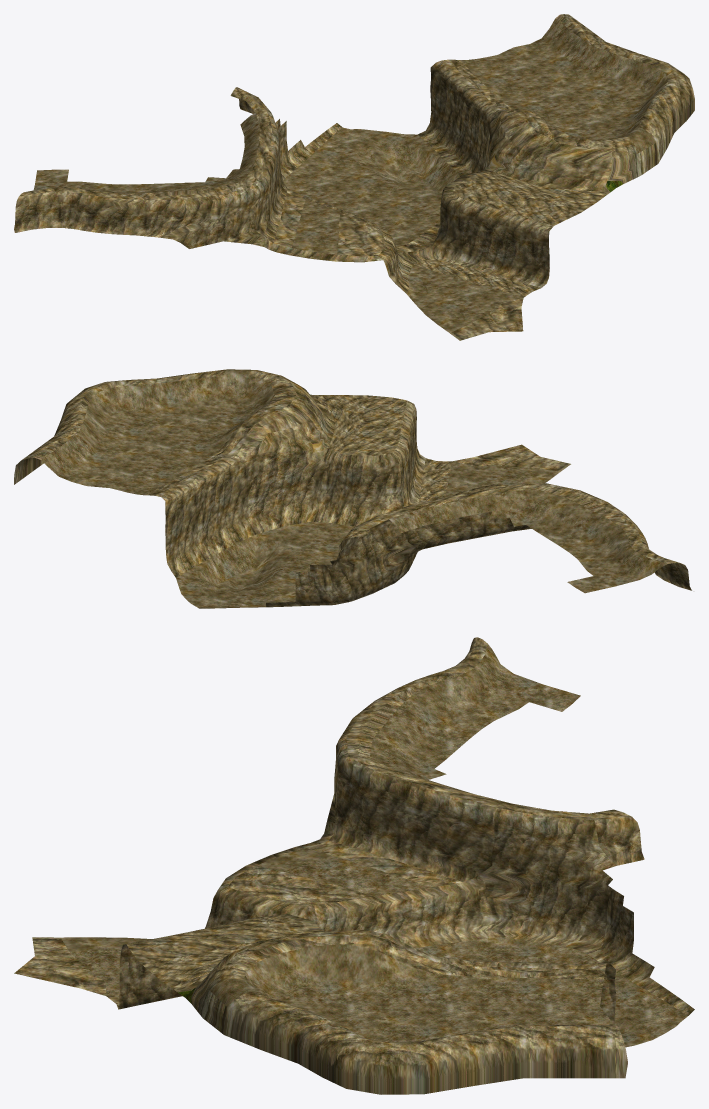
Rendered from RM_PLAYSURFACE_FINAL_OBJECT05.fbx.
3 views of the same model, one above another, from view 1: azimuth 30°, elevation 25°; view 2: azimuth 150°, elevation 25°; view 3: azimuth 270°, elevation 25° (orthographic). The views are drawn at different scales.
Parts seen in each view (by area): view 1: RM_PLAYSURFACE_FINAL_OBJECT05; view 2: RM_PLAYSURFACE_FINAL_OBJECT05; view 3: RM_PLAYSURFACE_FINAL_OBJECT05.
Boxes of the visible parts, box(x1,y1,x2,y2) form: RM_PLAYSURFACE_FINAL_OBJECT05: box(14, 14, 694, 340); RM_PLAYSURFACE_FINAL_OBJECT05: box(14, 369, 691, 608); RM_PLAYSURFACE_FINAL_OBJECT05: box(14, 637, 694, 1094).
Bounding box in the file's own units: 698147 × 111765 × 475925.
6 materials, 6 textured.
